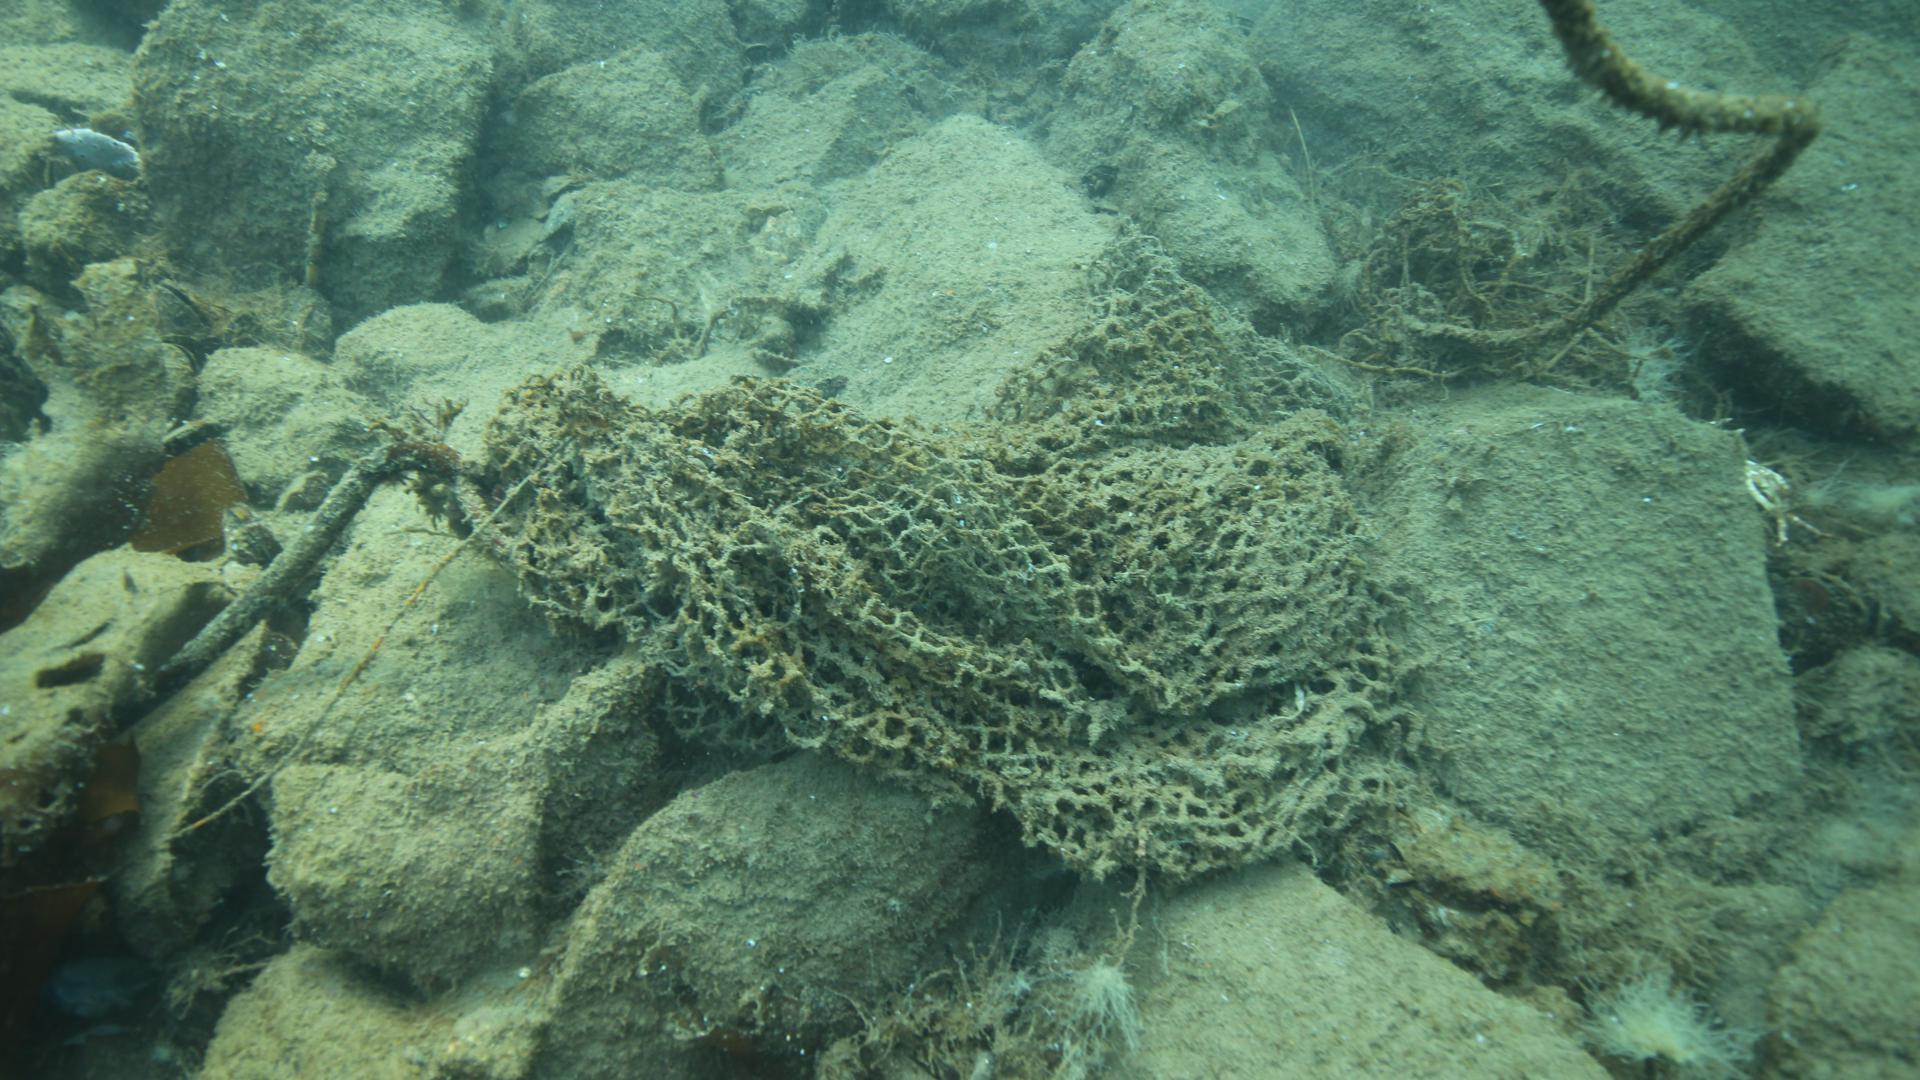fish net: (484, 229, 1424, 881)
